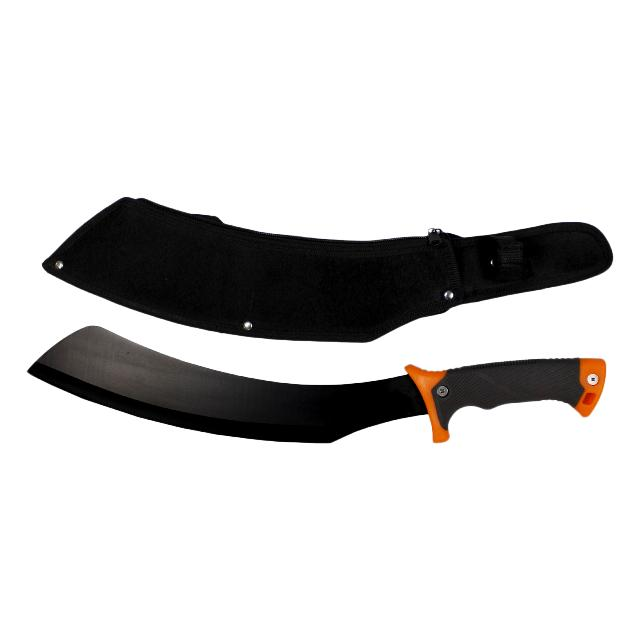long knife: (40, 316, 622, 487)
